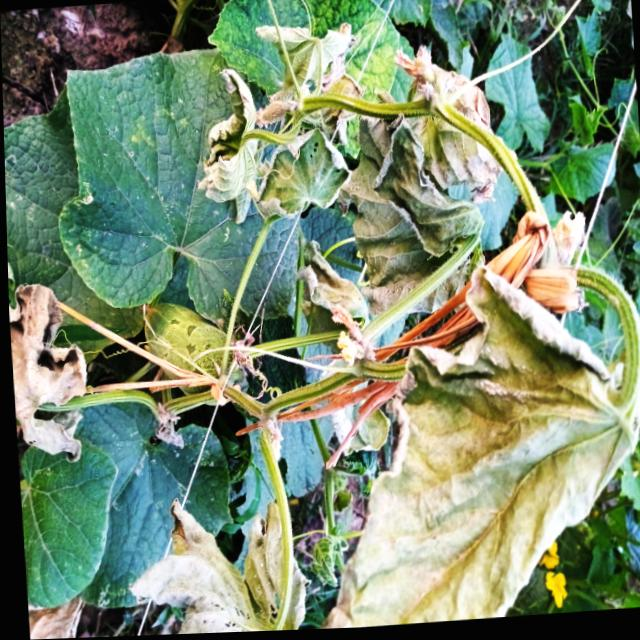Bacterial-Wilt: (311, 262, 640, 631), (335, 109, 482, 325), (123, 498, 309, 636), (7, 281, 84, 469), (255, 130, 351, 226)
